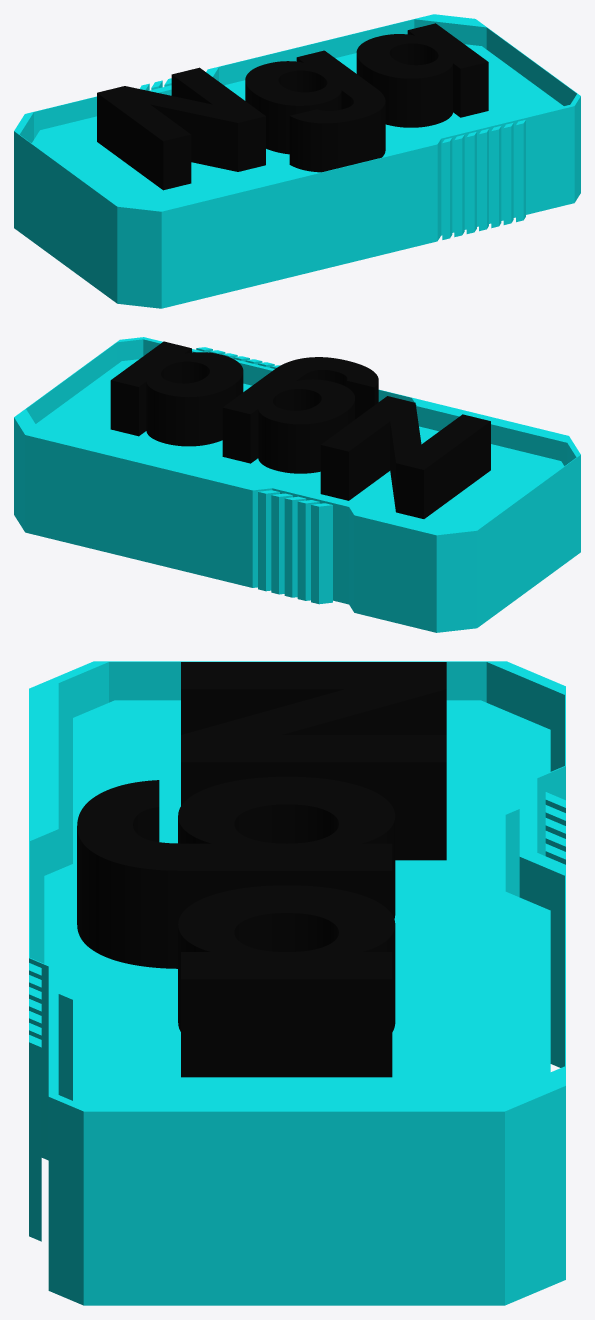
File: 14.HurufNga.glb
The picture shows the model from 3 angles, top to bottom: view 1: azimuth 30°, elevation 25°; view 2: azimuth 150°, elevation 25°; view 3: azimuth 270°, elevation 25°; orthographic projection. The views are drawn at different scales.
Parts seen in each view (by area): view 1: Curve.232, Curve.240, Curve.226, Curve.241, Curve.242, Curve.235, Curve.233, Curve.234, Curve.237, Curve.238, Curve.239, Curve.236; view 2: Curve.232, Curve.226, Curve.240, Curve.241, Curve.242, Curve.231, Curve.227, Curve.229, Curve.230, Curve.228; view 3: Curve.232, Curve.226, Curve.241, Curve.242, Curve.240, Curve.239.
Part boxes in pixels (left/top/right/bottom): Curve.232: left=14, top=14, right=580, bottom=308; Curve.240: left=97, top=67, right=265, bottom=190; Curve.226: left=31, top=44, right=563, bottom=207; Curve.241: left=245, top=50, right=385, bottom=172; Curve.242: left=356, top=23, right=488, bottom=127; Curve.235: left=466, top=131, right=476, bottom=233; Curve.233: left=442, top=138, right=452, bottom=239; Curve.234: left=454, top=134, right=464, bottom=237; Curve.237: left=491, top=126, right=501, bottom=228; Curve.238: left=503, top=123, right=513, bottom=224; Curve.239: left=516, top=120, right=525, bottom=222; Curve.236: left=479, top=129, right=488, bottom=231; Curve.232: left=14, top=337, right=580, bottom=632; Curve.226: left=36, top=359, right=564, bottom=532; Curve.240: left=320, top=396, right=490, bottom=518; Curve.241: left=222, top=357, right=378, bottom=473; Curve.242: left=110, top=341, right=243, bottom=446; Curve.231: left=311, top=503, right=332, bottom=604; Curve.227: left=258, top=490, right=279, bottom=591; Curve.229: left=284, top=496, right=306, bottom=597; Curve.230: left=297, top=500, right=319, bottom=600; Curve.228: left=271, top=493, right=292, bottom=594; Curve.232: left=29, top=661, right=565, bottom=1305; Curve.226: left=44, top=700, right=550, bottom=1110; Curve.241: left=77, top=776, right=395, bottom=968; Curve.242: left=178, top=885, right=395, bottom=1077; Curve.240: left=181, top=662, right=446, bottom=860; Curve.239: left=29, top=1035, right=41, bottom=1241.
Bounding box in the file's own units: 0.2966 × 0.0798 × 0.1496.
